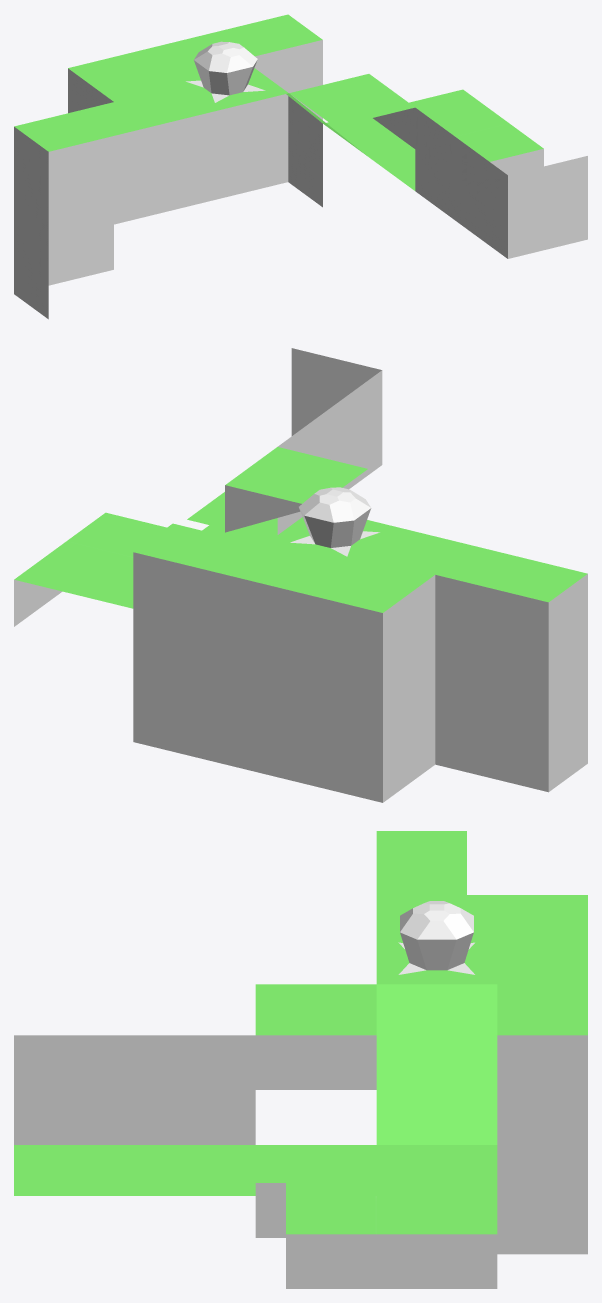
Rendered from tiles.fbx.
3 renders of one model, top to bottom at view 1: azimuth 30°, elevation 25°; view 2: azimuth 150°, elevation 25°; view 3: azimuth 270°, elevation 25°, orthographic. The views are drawn at different scales.
Visible parts, largest first — view 1: Cube.014, Cube.013, Cube.018, Cube.015, Cube.012, land_up_innercorner, up_land_innercorner, resource, Cube.006, Cube.009, Cube.008, land_outercorner (+8 smaller); view 2: Cube.013, Cube.008, Cube.018, Cube.012, Cube.007, Cube.016, Cube.014, Cube.015, Cube.009, Cube.006, resource, up_land_innercorner (+7 smaller); view 3: ramp, Cube.012, Cube.006, land_up, land_up_innercorner, land_edge, Cube.014, land_outercorner, resource, land_innercorner, up_land, up_land_innercorner (+5 smaller).
Part boxes in pixels (left/top/right/bottom): Cube.014: left=208, top=98, right=322, bottom=207; Cube.013: left=14, top=107, right=128, bottom=235; Cube.018: left=14, top=191, right=93, bottom=319; Cube.015: left=128, top=118, right=207, bottom=220; Cube.012: left=208, top=14, right=322, bottom=121; land_up_innercorner: left=461, top=183, right=587, bottom=258; up_land_innercorner: left=461, top=142, right=587, bottom=216; resource: left=163, top=41, right=288, bottom=112; Cube.006: left=289, top=74, right=415, bottom=148; Cube.009: left=94, top=79, right=208, bottom=190; Cube.008: left=68, top=53, right=162, bottom=140; land_outercorner: left=455, top=123, right=543, bottom=174; Cube.013: left=458, top=551, right=587, bottom=697; Cube.008: left=315, top=568, right=422, bottom=707; Cube.018: left=458, top=669, right=587, bottom=792; Cube.012: left=133, top=523, right=262, bottom=668; Cube.007: left=224, top=545, right=353, bottom=691; Cube.016: left=315, top=679, right=422, bottom=802; Cube.014: left=133, top=647, right=224, bottom=763; Cube.015: left=224, top=669, right=314, bottom=786; Cube.009: left=354, top=529, right=496, bottom=678; Cube.006: left=225, top=447, right=367, bottom=532; resource: left=264, top=487, right=405, bottom=567; up_land_innercorner: left=291, top=348, right=382, bottom=455; ramp: left=376, top=984, right=497, bottom=1144; Cube.012: left=497, top=984, right=587, bottom=1144; Cube.006: left=255, top=984, right=376, bottom=1089; land_up: left=135, top=1090, right=255, bottom=1195; land_up_innercorner: left=14, top=1090, right=134, bottom=1195; land_edge: left=376, top=1196, right=497, bottom=1288; Cube.014: left=497, top=1145, right=587, bottom=1254; land_outercorner: left=286, top=1196, right=376, bottom=1288; resource: left=376, top=901, right=497, bottom=984; land_innercorner: left=255, top=1145, right=376, bottom=1237; up_land: left=135, top=1035, right=255, bottom=1089; up_land_innercorner: left=14, top=1035, right=134, bottom=1089.
Size of the model in its own units: 1150 by 493 by 950.
